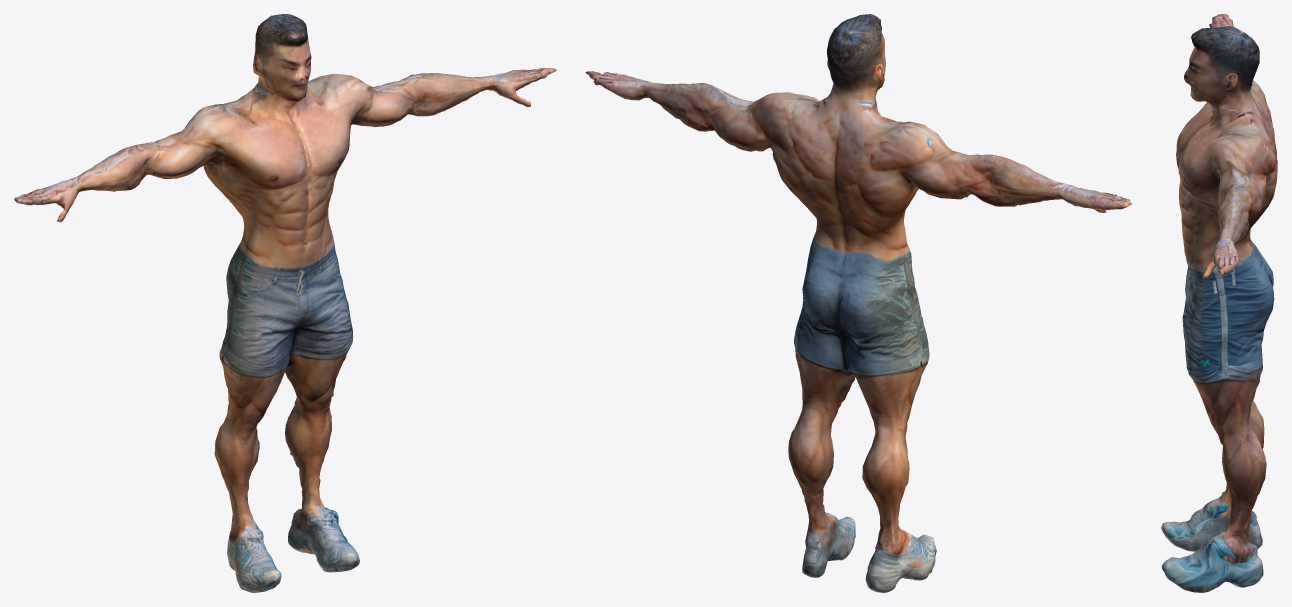
Rendered from Muscular_man.glb.
3 renders of one model, left to right at view 1: azimuth 30°, elevation 25°; view 2: azimuth 150°, elevation 25°; view 3: azimuth 270°, elevation 25°, orthographic. The views are drawn at different scales.
Bounding box in the file's own units: 1.2 × 1.17 × 0.2282.
1 material, 1 textured.
